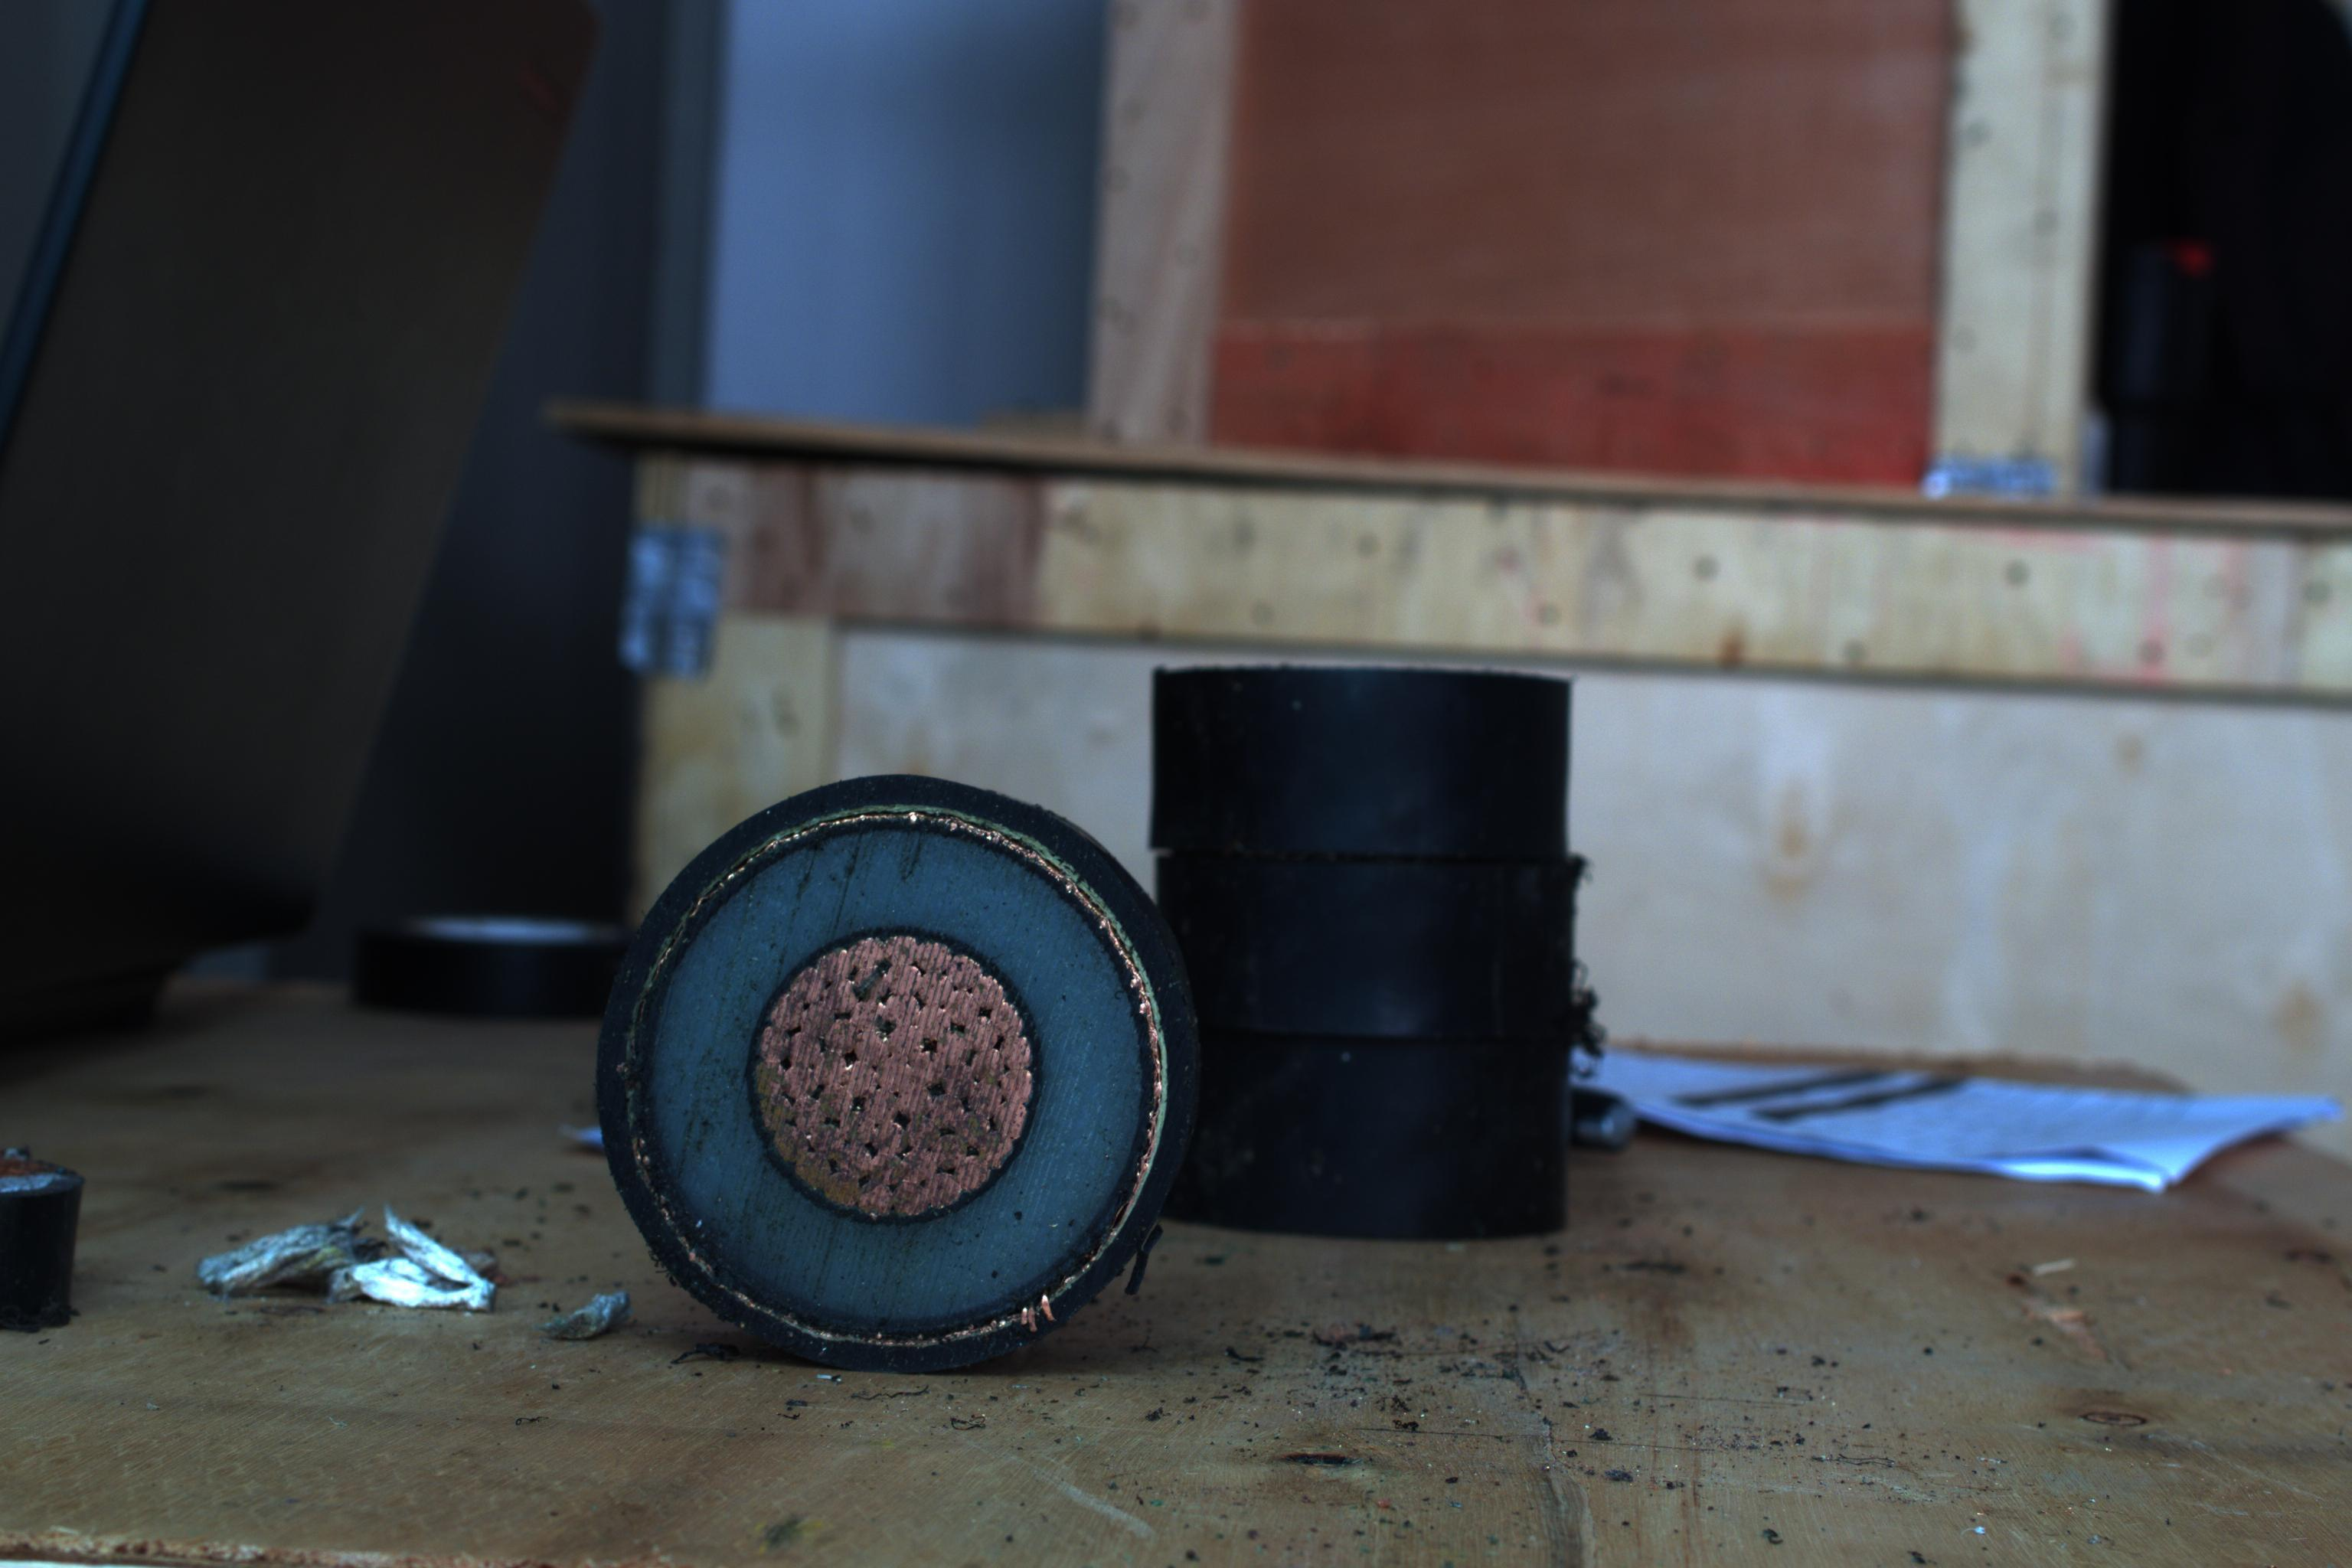YJV_26_35kV_1x630: (614, 791, 1167, 1370)
